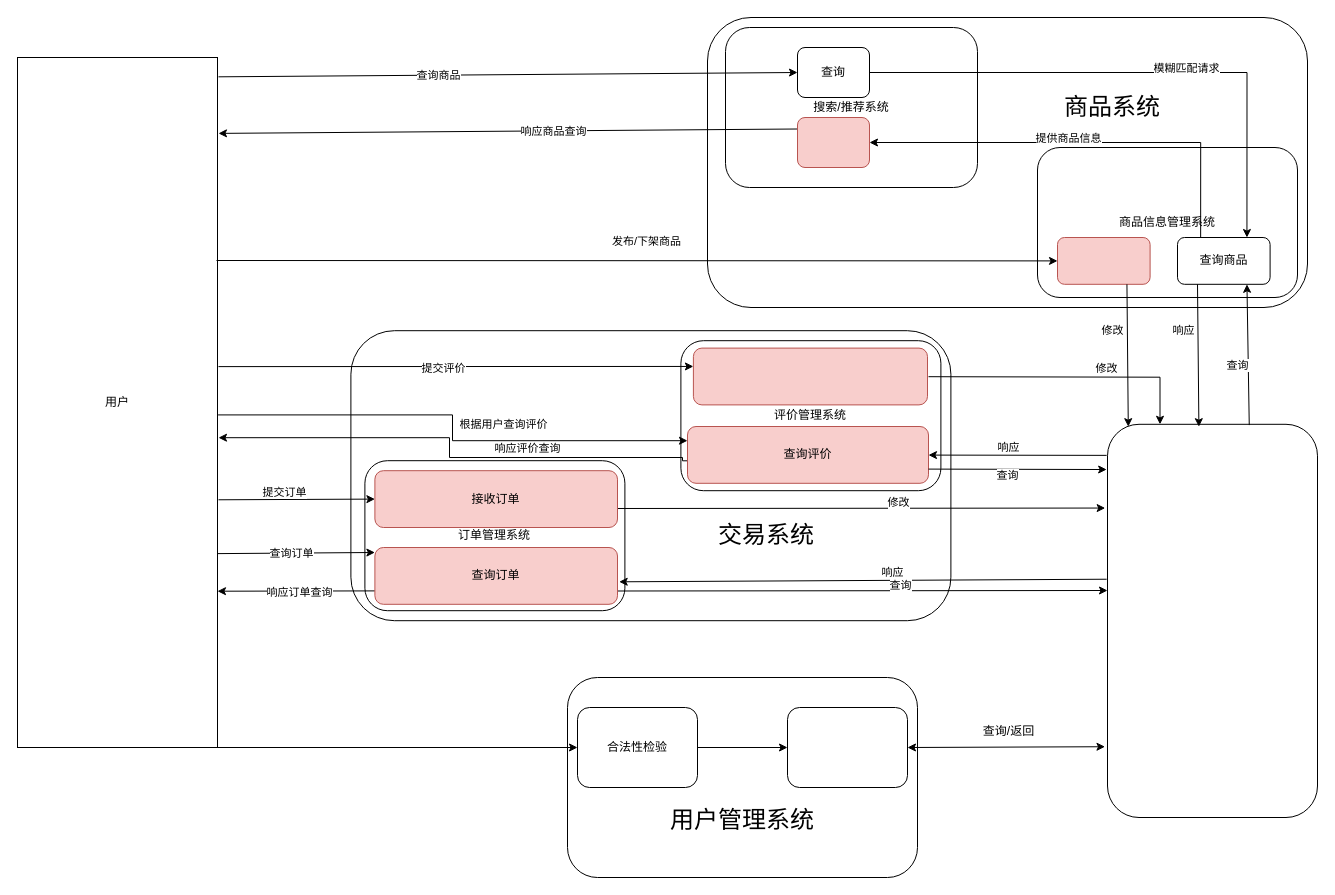
Some shapes in this 1335 by 895 pixel diagram are drawn without their labels. Here are the shapes that lost their labels. From the top down, the centre of each, then its label:
[833,142]: 推荐
[1103,260]: 修改商品
[810,376]: 接收评价
[1212,620]: 数据库系统
[847,747]: 个人信息管理
